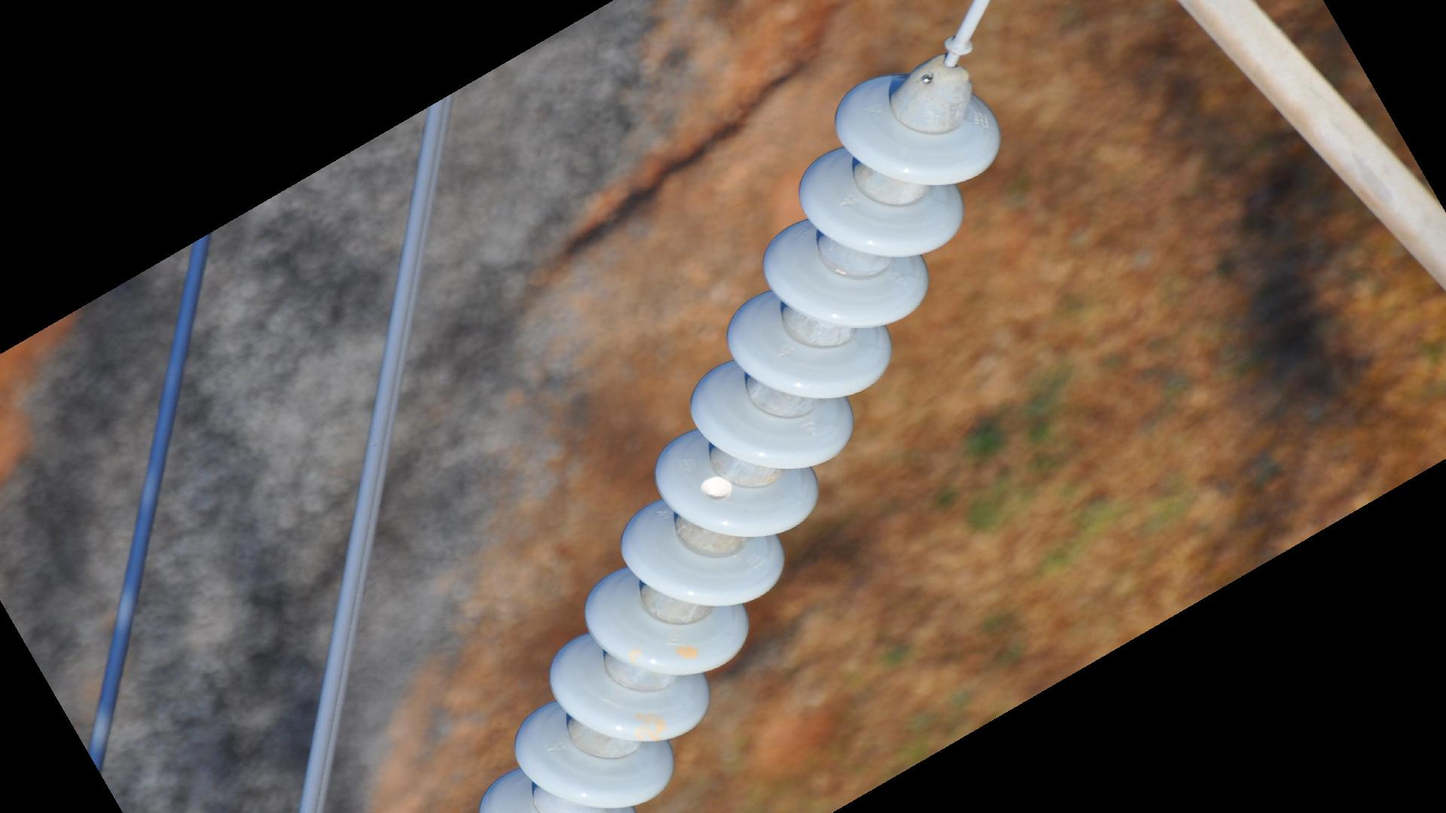insulator: (474, 66, 1006, 813)
insulator_breakage: (694, 472, 736, 507)
